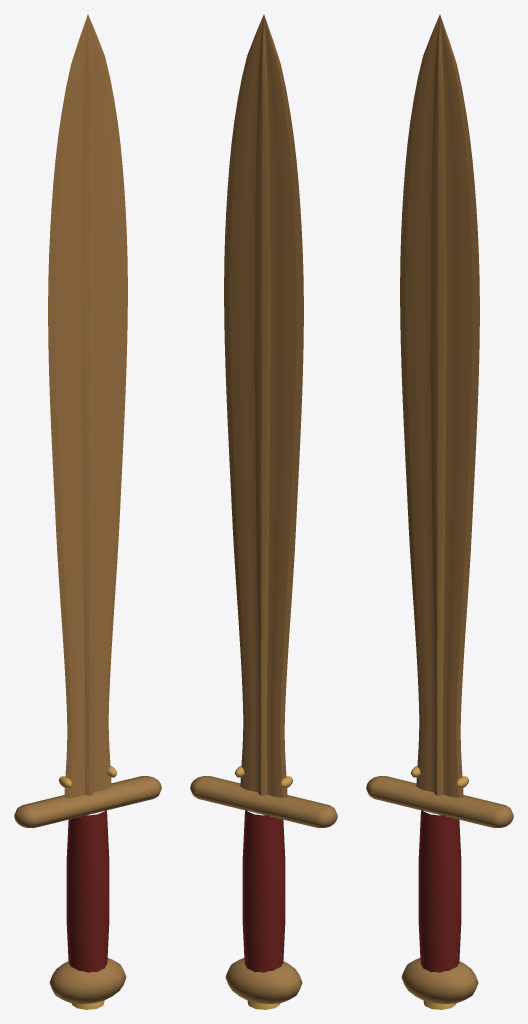
The model's file is sword.glb.
3 views of the same model, side by side, from view 1: azimuth 30°, elevation 25°; view 2: azimuth 150°, elevation 25°; view 3: azimuth 330°, elevation 25° (orthographic).
Parts seen in each view (by area): view 1: blade, grip, guard, pommel; view 2: blade, grip, guard, pommel; view 3: blade, grip, guard, pommel.
Boxes of the visible parts, bbox=[...] form: blade: bbox=[48, 14, 127, 797]; grip: bbox=[66, 810, 109, 972]; guard: bbox=[14, 776, 161, 828]; pommel: bbox=[49, 958, 126, 1003]; blade: bbox=[224, 14, 303, 797]; grip: bbox=[242, 810, 285, 972]; guard: bbox=[190, 776, 337, 828]; pommel: bbox=[225, 958, 302, 1003]; blade: bbox=[400, 14, 479, 797]; grip: bbox=[418, 810, 461, 972]; guard: bbox=[366, 776, 513, 828]; pommel: bbox=[401, 958, 478, 1003].
Bounding box in the file's own units: 0.1367 × 0.906 × 0.0507.
